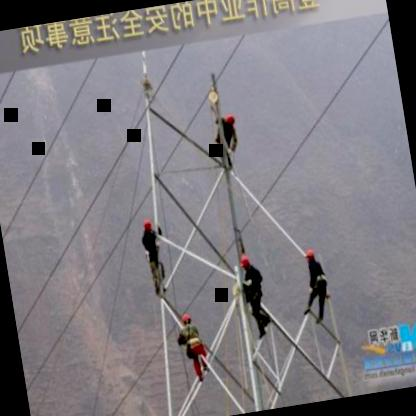helmet: (140, 216, 156, 237), (302, 245, 317, 267), (180, 309, 194, 331), (222, 110, 236, 131), (239, 254, 252, 274)
